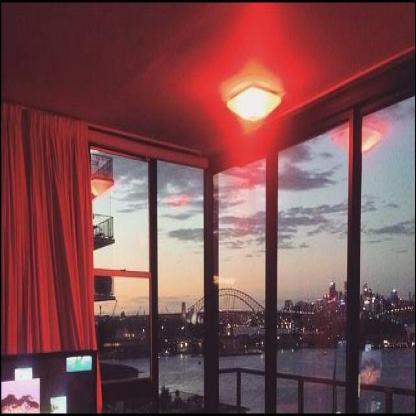other: (5, 126, 86, 326), (205, 23, 306, 140), (332, 123, 384, 158)
